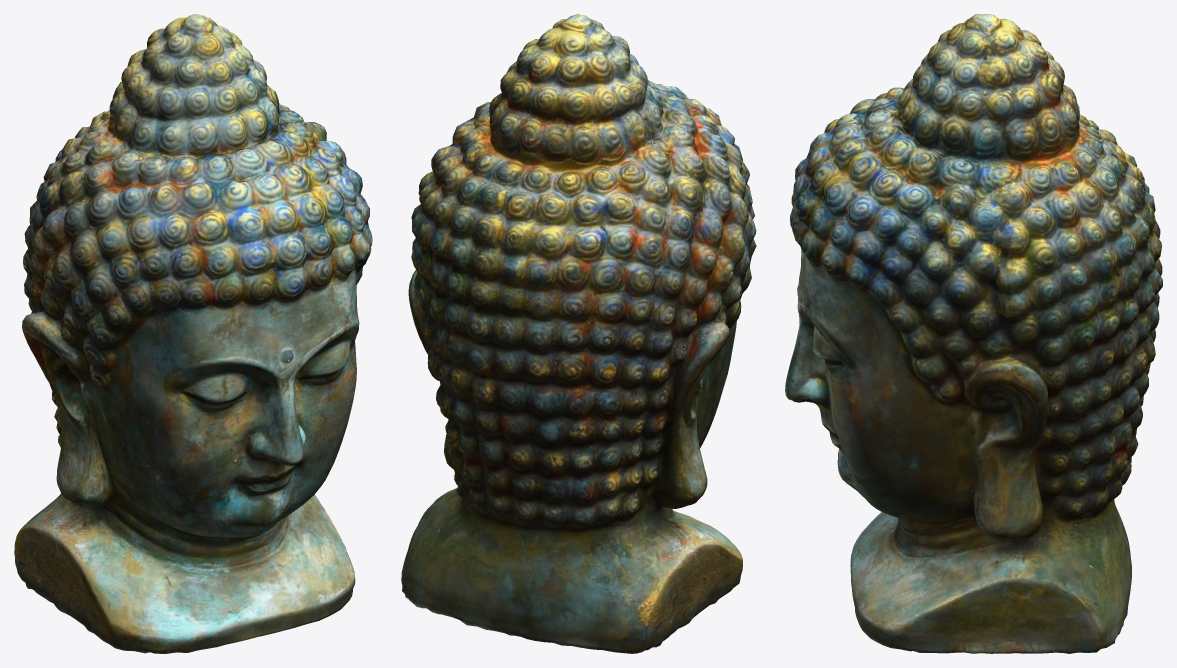
The picture shows the model from 3 angles, left to right: view 1: azimuth 30°, elevation 25°; view 2: azimuth 150°, elevation 25°; view 3: azimuth 270°, elevation 25°; orthographic projection. The views are drawn at different scales.
Visible parts, largest first — view 1: Object_2; view 2: Object_2; view 3: Object_2.
Part boxes in pixels (box(x1,y1,x2,y2)): Object_2: box(14, 14, 372, 653); Object_2: box(401, 14, 756, 653); Object_2: box(785, 14, 1162, 653).
Bounding box in the file's own units: 1.16 × 2.07 × 1.22.
1 material, 1 textured.
